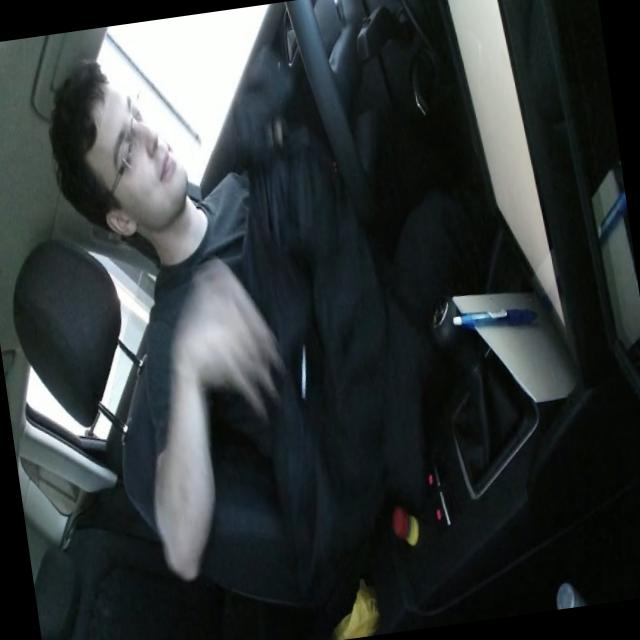pen: (451, 300, 538, 334)
